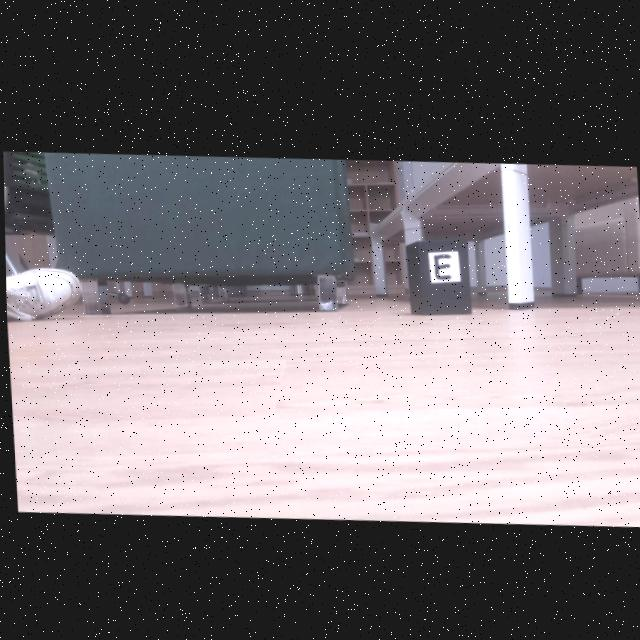E: (432, 249, 450, 273)
